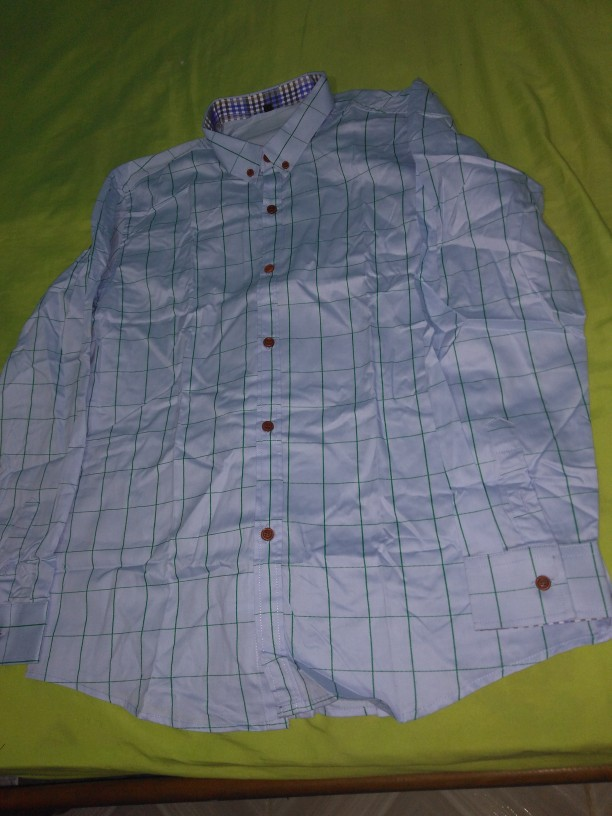shirts: (25, 89, 612, 708)
